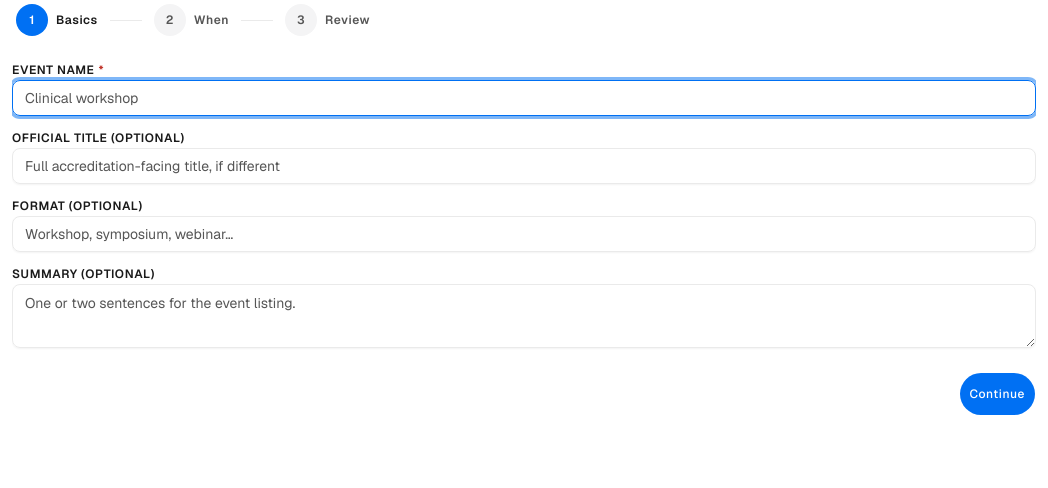
Test: CreateEventWizard › blocks progression until the required event name is supplied
The image size is (1048, 488).
Click the button "Continue" at (997, 394), box 958,372 -> 1036,416
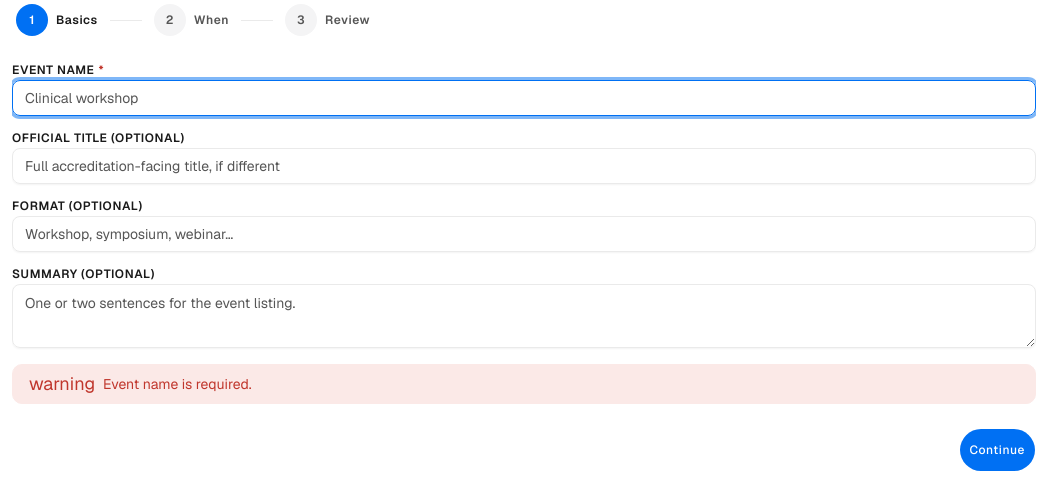
Result: the message shows "Event name is required." at 103,375 -> 252,393
